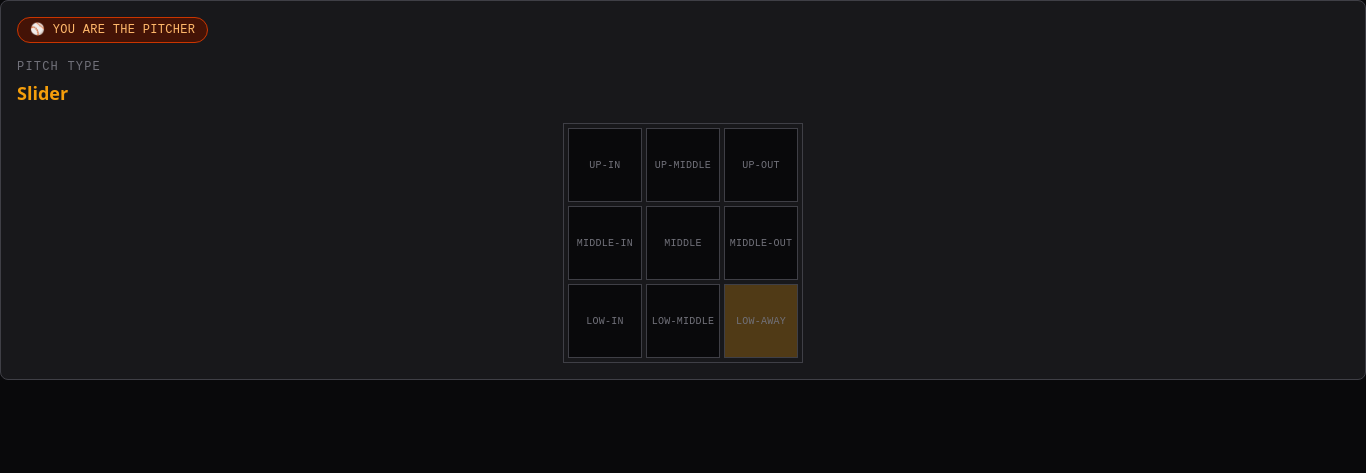
Test: PitcherArcade — release phase › shows the release instruction and meter only after a zone is picked
The width and height of the screenshot is (1366, 473).
Click the cell with test id "zone-low-away". click: (761, 321)
box: [724, 284, 798, 358]
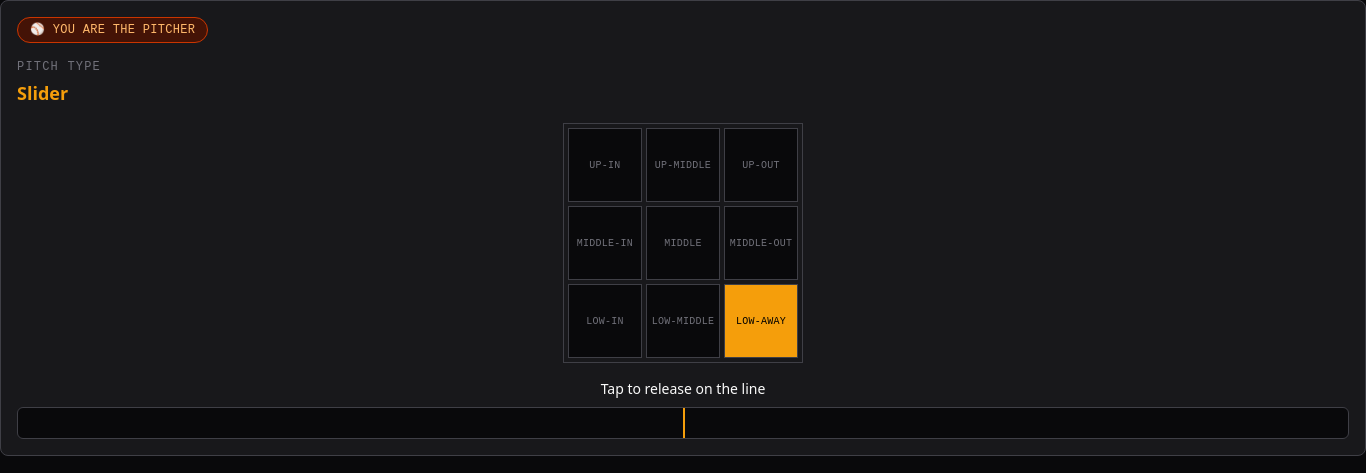
Result: the button with test id "release-meter" is shown at [17, 407, 1349, 439]
Result: the text "Tap to release on the line" is shown at [601, 379, 765, 398]
